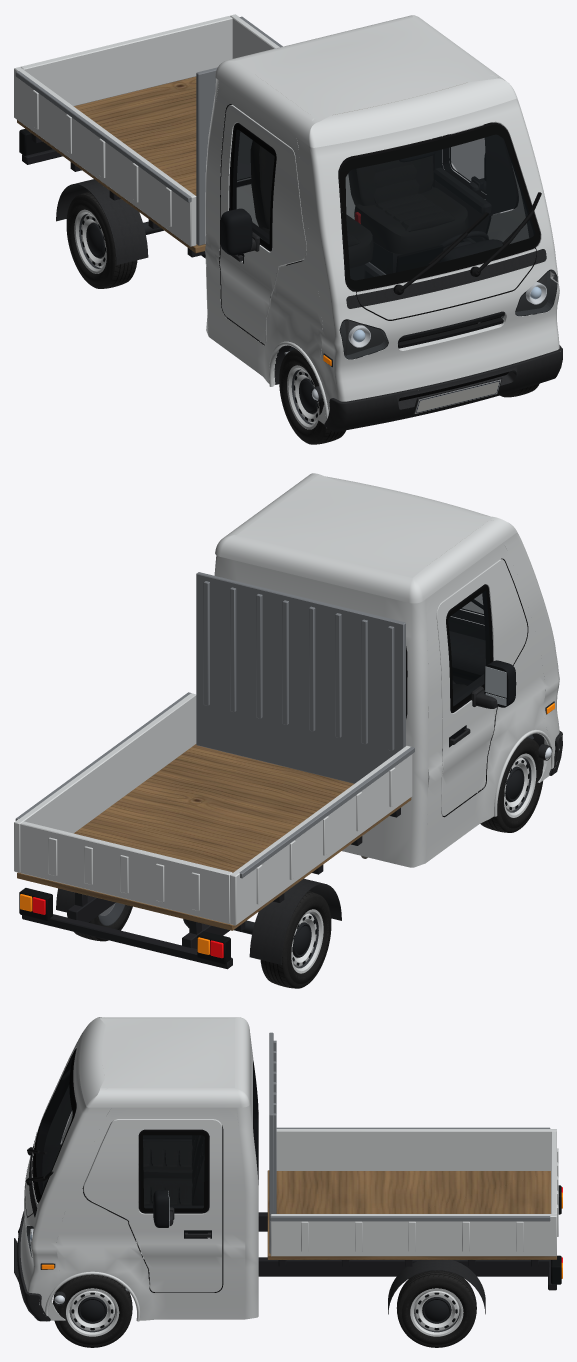
Rendered from kei-truck.glb.
The picture shows the model from 3 angles, top to bottom: view 1: azimuth 30°, elevation 25°; view 2: azimuth 150°, elevation 25°; view 3: azimuth 270°, elevation 25°; orthographic projection. The views are drawn at different scales.
Visible parts, largest first — view 1: Kei_Truck, Door_R, Drop_Side_R, Tailgate, Door_L, Wheel_Rear_R, Wheel_Front_R, Drop_Side_L; view 2: Kei_Truck, Door_R, Tailgate, Drop_Side_R, Drop_Side_L, Wheel_Rear_R, Wheel_Front_R, Wheel_Rear_L; view 3: Kei_Truck, Door_L, Drop_Side_L, Drop_Side_R, Wheel_Rear_L, Wheel_Front_L, Tailgate.
Boxes of the visible parts, bbox=[...] form: Kei_Truck: bbox=[17, 15, 562, 431]; Door_R: bbox=[219, 105, 306, 344]; Drop_Side_R: bbox=[14, 67, 196, 246]; Tailgate: bbox=[20, 16, 232, 106]; Door_L: bbox=[433, 122, 518, 242]; Wheel_Rear_R: bbox=[66, 191, 137, 288]; Wheel_Front_R: bbox=[279, 349, 345, 444]; Drop_Side_L: bbox=[230, 14, 282, 58]; Kei_Truck: bbox=[17, 473, 562, 969]; Door_R: bbox=[436, 559, 527, 815]; Tailgate: bbox=[20, 821, 232, 923]; Drop_Side_R: bbox=[230, 746, 414, 925]; Drop_Side_L: bbox=[14, 692, 196, 872]; Wheel_Rear_R: bbox=[260, 891, 331, 988]; Wheel_Front_R: bbox=[480, 737, 543, 832]; Wheel_Rear_L: bbox=[67, 902, 132, 941]; Kei_Truck: bbox=[14, 1017, 562, 1321]; Door_L: bbox=[83, 1119, 222, 1292]; Drop_Side_L: bbox=[270, 1214, 556, 1256]; Drop_Side_R: bbox=[276, 1127, 556, 1170]; Wheel_Rear_L: bbox=[396, 1270, 476, 1347]; Wheel_Front_L: bbox=[53, 1274, 132, 1347]; Tailgate: bbox=[551, 1131, 558, 1236].
Size of the model in its own units: 1.82 by 1.9 by 3.7.
Materials: 52 (10 with a texture image).
